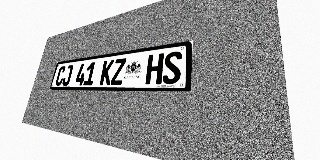1: (83, 62, 97, 85)
4: (74, 63, 88, 85)
C: (55, 66, 66, 86)
H: (145, 53, 164, 84)
J: (61, 65, 74, 86)
K: (99, 59, 114, 85)
S: (162, 51, 182, 84)
Z: (110, 58, 126, 85)
